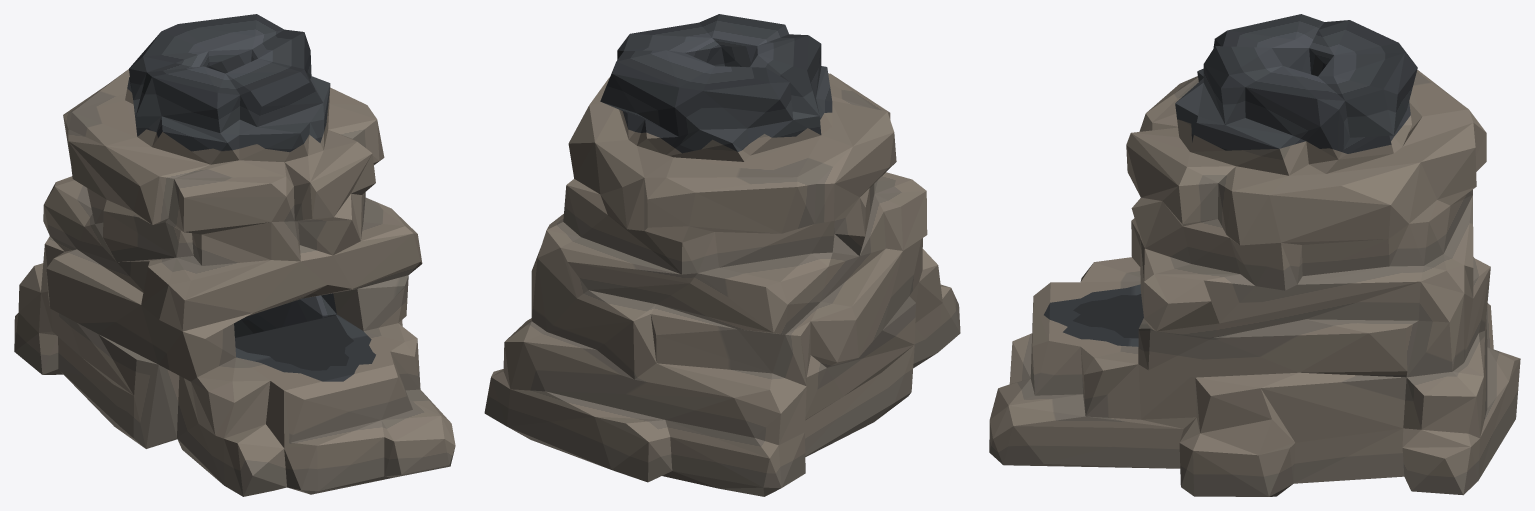
File: SM_Prop_Furnace_01.fbx
The picture shows the model from 3 angles, left to right: view 1: azimuth 30°, elevation 25°; view 2: azimuth 150°, elevation 25°; view 3: azimuth 270°, elevation 25°; orthographic projection. The views are drawn at different scales.
Parts seen in each view (by area): view 1: SM_Prop_Furnace_01; view 2: SM_Prop_Furnace_01; view 3: SM_Prop_Furnace_01.
Boxes of the visible parts, left/top/right/bottom form: SM_Prop_Furnace_01: left=14, top=14, right=455, bottom=496; SM_Prop_Furnace_01: left=484, top=14, right=960, bottom=496; SM_Prop_Furnace_01: left=989, top=14, right=1520, bottom=496.
Size of the model in its own units: 158 by 166 by 215.
